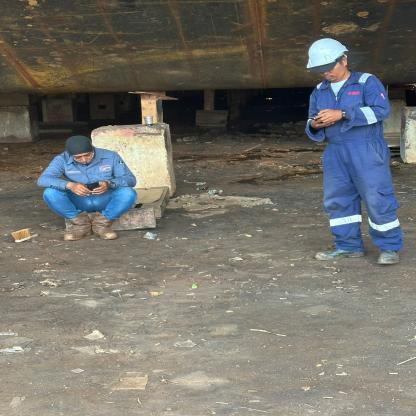bota: (59, 212, 94, 239), (92, 211, 119, 241), (314, 245, 364, 261), (375, 247, 402, 265)
